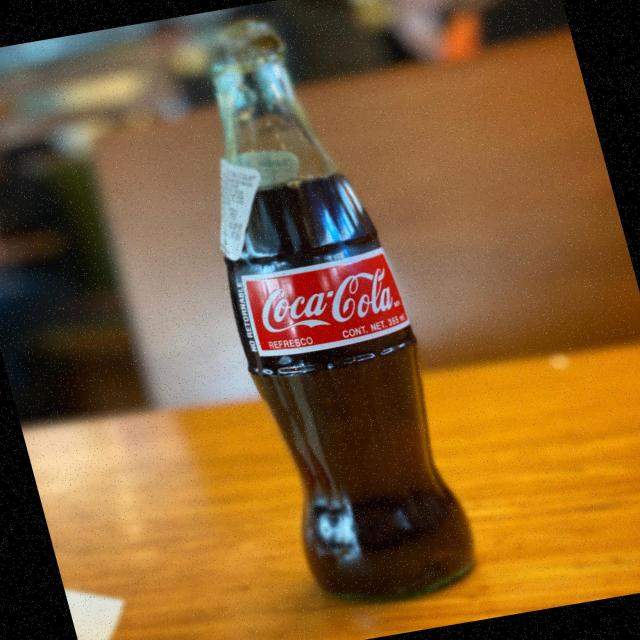coca-cola: (152, 5, 506, 620)
